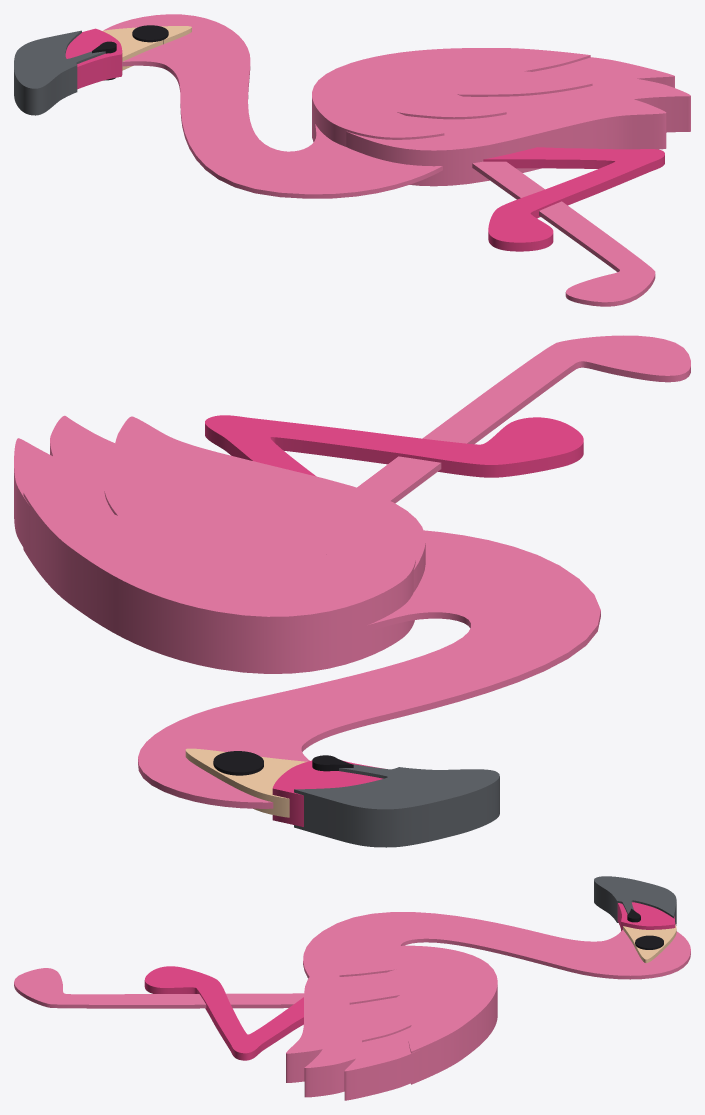
Rendered from emoji_u1f9a9.glb.
3 renders of one model, top to bottom at view 1: azimuth 30°, elevation 25°; view 2: azimuth 150°, elevation 25°; view 3: azimuth 270°, elevation 25°, orthographic. The views are drawn at different scales.
Parts seen in each view (by area): view 1: emoji_u1f9a9; view 2: emoji_u1f9a9; view 3: emoji_u1f9a9.
Part boxes in pixels (x1,y1,x2,y2): emoji_u1f9a9: [14, 14, 690, 306]; emoji_u1f9a9: [14, 335, 690, 847]; emoji_u1f9a9: [14, 876, 690, 1100].
Size of the model in its own units: 0.0232 by 0.0018 by 0.0334.
